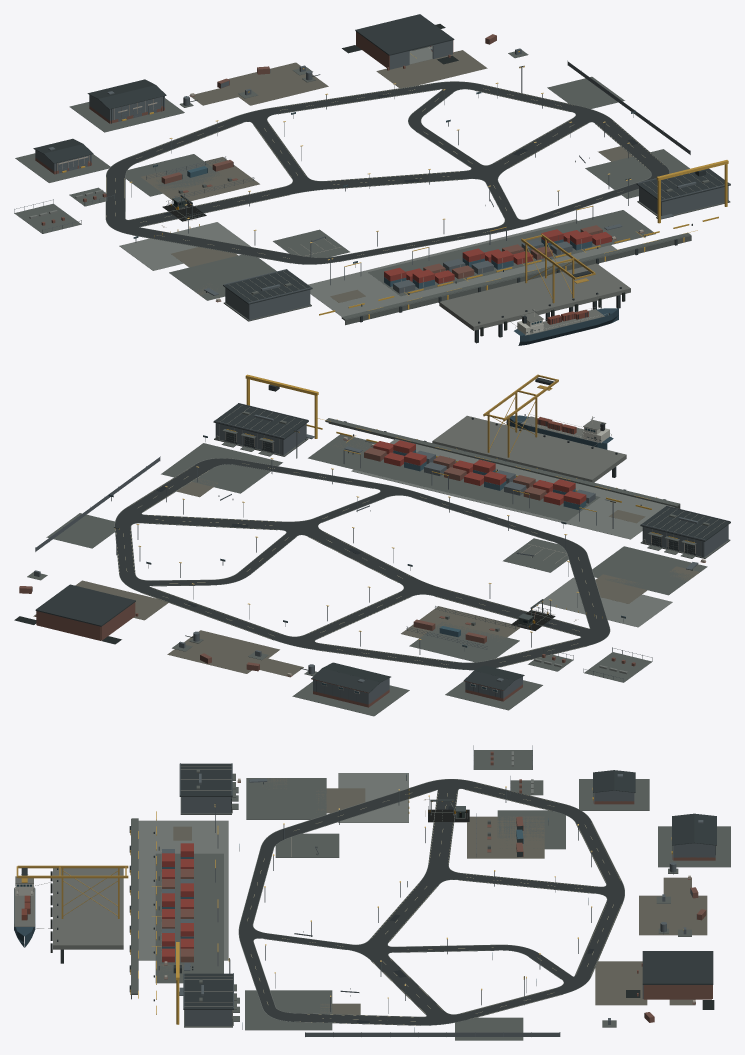
3 views of the same model, one above another, from view 1: azimuth 30°, elevation 25°; view 2: azimuth 150°, elevation 25°; view 3: azimuth 270°, elevation 25° (orthographic). The views are drawn at different scales.
Visible parts, largest first — view 1: Bracken Quay stained concrete static batch, Bracken Quay patched asphalt static batch (×2), Bracken Quay weathered concrete static batch (×2), Bracken Quay oxidised steel static batch, Bracken Quay brownfield gravel static batch, Bracken Quay dark industrial steel static batch, Cargo coaster worn deck static batch, Bracken Quay rust static batch, Bracken Quay port red static batch, Bracken Quay safety yellow static batch, Quayside crane faded ochre static batch, Cargo coaster faded hull blue static batch (+4 smaller); view 2: Bracken Quay stained concrete static batch, Bracken Quay patched asphalt static batch (×2), Bracken Quay weathered concrete static batch (×2), Bracken Quay dark industrial steel static batch, Bracken Quay oxidised steel static batch, Bracken Quay brownfield gravel static batch, Cargo coaster worn deck static batch, Bracken Quay rust static batch, Bracken Quay port red static batch, Quayside crane faded ochre static batch, Bracken Quay safety yellow static batch, Bracken Quay container blue static batch (+3 smaller); view 3: Bracken Quay stained concrete static batch, Bracken Quay patched asphalt static batch (×2), Bracken Quay weathered concrete static batch (×2), Bracken Quay brownfield gravel static batch, Bracken Quay dark industrial steel static batch, Cargo coaster worn deck static batch, Bracken Quay oxidised steel static batch, Bracken Quay rust static batch, Bracken Quay port red static batch, Quayside crane faded ochre static batch, Bracken Quay safety yellow static batch, Bracken Quay worn lane paint static batch (+1 smaller).
Part boxes in pixels (left/top/right/bottom): Bracken Quay stained concrete static batch: left=14, top=45, right=730, bottom=325; Bracken Quay patched asphalt static batch (×2): left=106, top=82, right=669, bottom=264; Bracken Quay weathered concrete static batch (×2): left=29, top=46, right=669, bottom=316; Bracken Quay oxidised steel static batch: left=14, top=40, right=730, bottom=319; Bracken Quay brownfield gravel static batch: left=141, top=50, right=632, bottom=302; Bracken Quay dark industrial steel static batch: left=33, top=14, right=730, bottom=322; Cargo coaster worn deck static batch: left=439, top=263, right=630, bottom=335; Bracken Quay rust static batch: left=35, top=32, right=644, bottom=302; Bracken Quay port red static batch: left=384, top=46, right=611, bottom=283; Bracken Quay safety yellow static batch: left=62, top=51, right=728, bottom=318; Quayside crane faded ochre static batch: left=521, top=233, right=595, bottom=303; Cargo coaster faded hull blue static batch: left=514, top=308, right=618, bottom=345; Bracken Quay stained concrete static batch: left=27, top=411, right=730, bottom=716; Bracken Quay patched asphalt static batch (×2): left=115, top=458, right=609, bottom=670; Bracken Quay weathered concrete static batch (×2): left=114, top=439, right=674, bottom=674; Bracken Quay dark industrial steel static batch: left=35, top=384, right=730, bottom=701; Bracken Quay oxidised steel static batch: left=32, top=403, right=730, bottom=704; Bracken Quay brownfield gravel static batch: left=33, top=438, right=699, bottom=677; Cargo coaster worn deck static batch: left=432, top=415, right=626, bottom=482; Bracken Quay rust static batch: left=19, top=439, right=705, bottom=707; Bracken Quay port red static batch: left=373, top=440, right=586, bottom=505; Quayside crane faded ochre static batch: left=483, top=374, right=558, bottom=457; Bracken Quay safety yellow static batch: left=226, top=374, right=694, bottom=618; Bracken Quay container blue static batch: left=108, top=435, right=625, bottom=647; Bracken Quay stained concrete static batch: left=131, top=750, right=730, bottom=1040; Bracken Quay patched asphalt static batch (×2): left=239, top=779, right=624, bottom=1025; Bracken Quay weathered concrete static batch (×2): left=138, top=751, right=624, bottom=1025; Bracken Quay brownfield gravel static batch: left=159, top=778, right=707, bottom=1014; Bracken Quay dark industrial steel static batch: left=129, top=763, right=716, bottom=1025; Cargo coaster worn deck static batch: left=14, top=868, right=123, bottom=949; Bracken Quay oxidised steel static batch: left=162, top=745, right=715, bottom=1036; Bracken Quay rust static batch: left=162, top=751, right=716, bottom=1022; Bracken Quay port red static batch: left=162, top=843, right=193, bottom=962; Quayside crane faded ochre static batch: left=16, top=865, right=128, bottom=918; Bracken Quay safety yellow static batch: left=130, top=788, right=683, bottom=1024; Bracken Quay worn lane paint static batch: left=247, top=785, right=621, bottom=1025.
Bounding box in the file's own units: 292 × 32.27 × 304.
55 materials, 18 textured.
